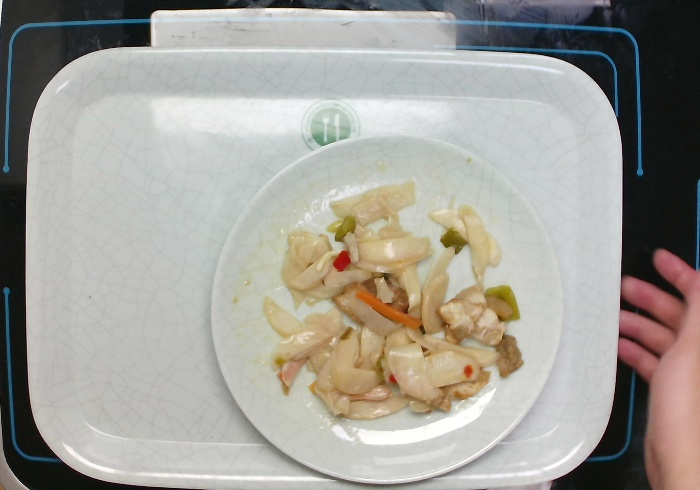JYsf-Da_Yuan_Pan: (208, 131, 565, 487)
